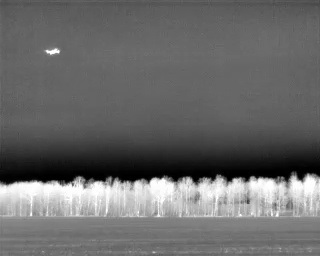DRONE: (41, 43, 64, 59)
